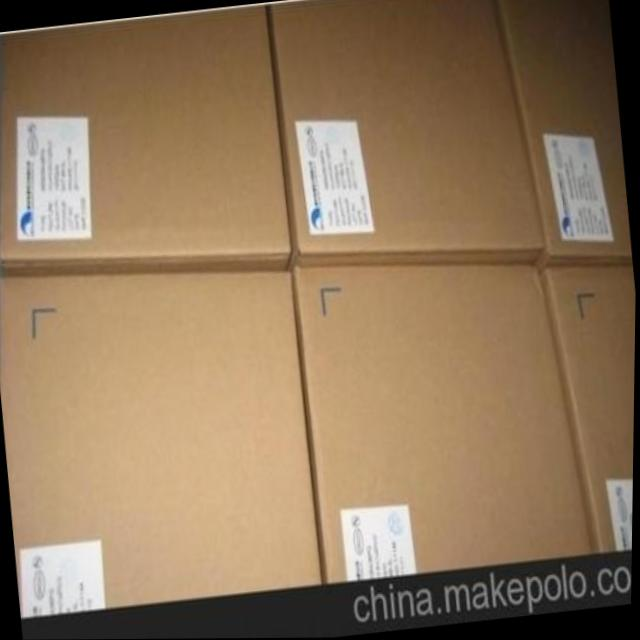box: (0, 270, 324, 617), (292, 265, 596, 584), (0, 4, 292, 274), (265, 0, 547, 266), (496, 0, 632, 277), (539, 261, 636, 554)
